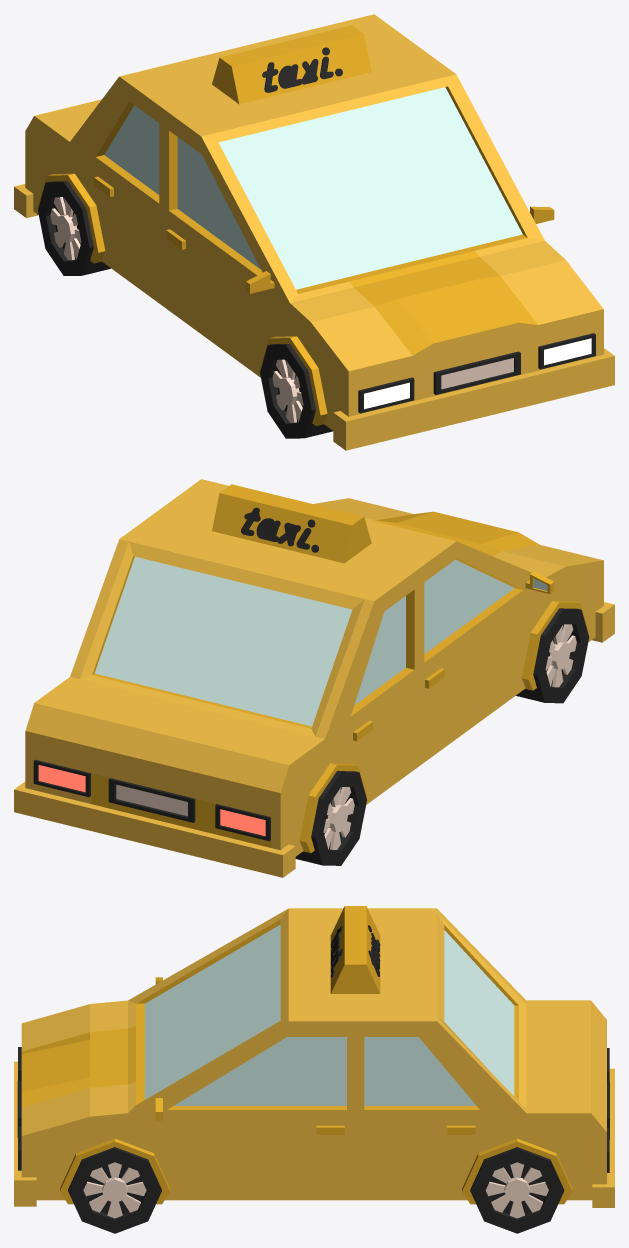
The model's file is Taxi_1.fbx.
3 views of the same model, one above another, from view 1: azimuth 30°, elevation 25°; view 2: azimuth 150°, elevation 25°; view 3: azimuth 270°, elevation 25° (orthographic). The views are drawn at different scales.
Visible parts, largest first — view 1: taxi; view 2: taxi; view 3: taxi.
Boxes of the visible parts, x1,y1,x2,y2 form: taxi: [14, 14, 614, 450]; taxi: [14, 479, 614, 877]; taxi: [14, 906, 614, 1233].
Bounding box in the file's own units: 190 × 156 × 359.
